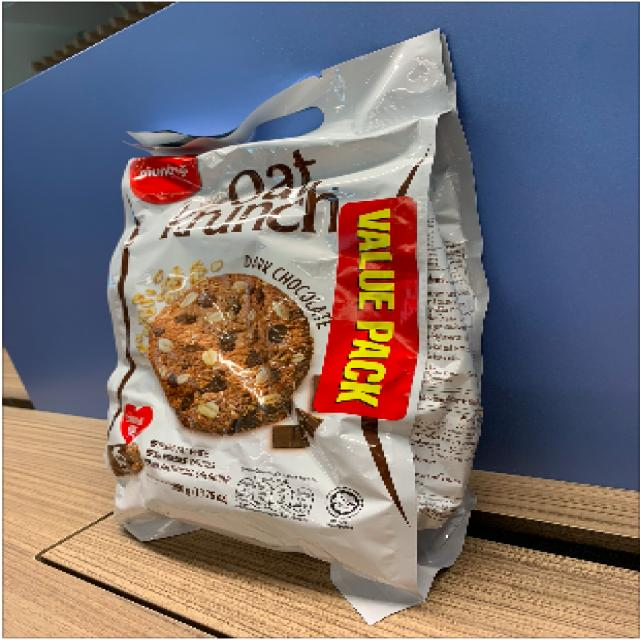object_name: (128, 108, 457, 535)
